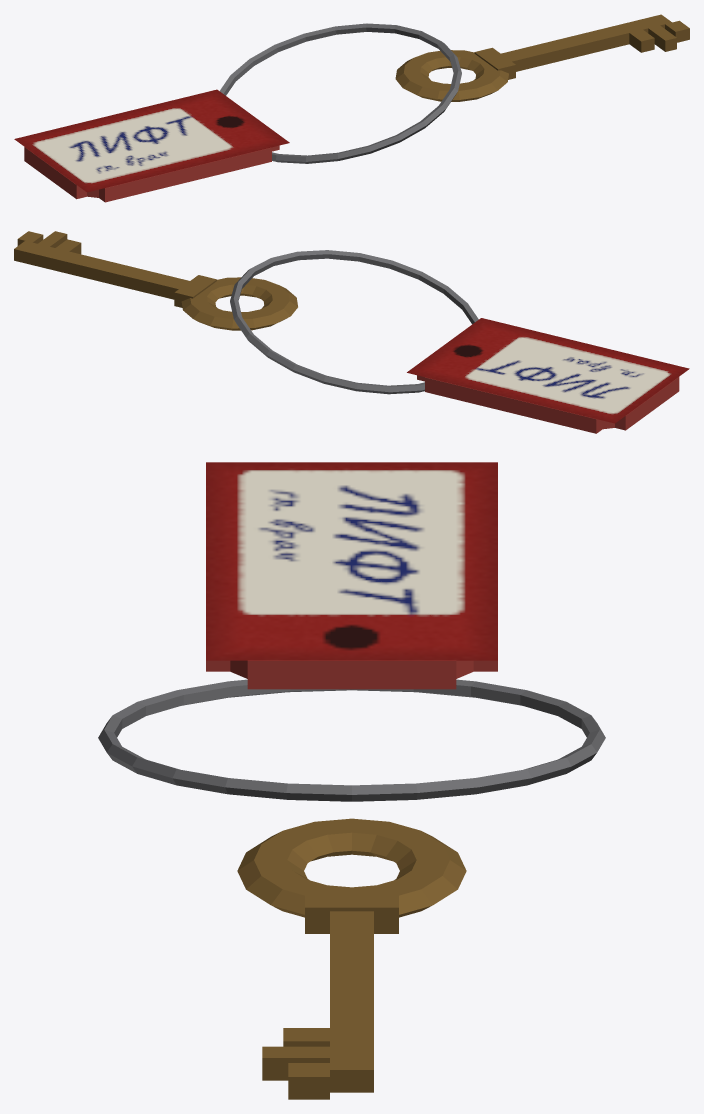
Rendered from Key_Lift.fbx.
3 renders of one model, top to bottom at view 1: azimuth 30°, elevation 25°; view 2: azimuth 150°, elevation 25°; view 3: azimuth 270°, elevation 25°, orthographic. The views are drawn at different scales.
Parts seen in each view (by area): view 1: Key_Lift; view 2: Key_Lift; view 3: Key_Lift.
Part boxes in pixels (x1,y1,x2,y2): Key_Lift: (14,14,689,202); Key_Lift: (14,231,689,433); Key_Lift: (98,462,605,1099).
Size of the model in its own units: 0.1381 by 0.0115 by 0.0487.
1 material, 1 textured.
